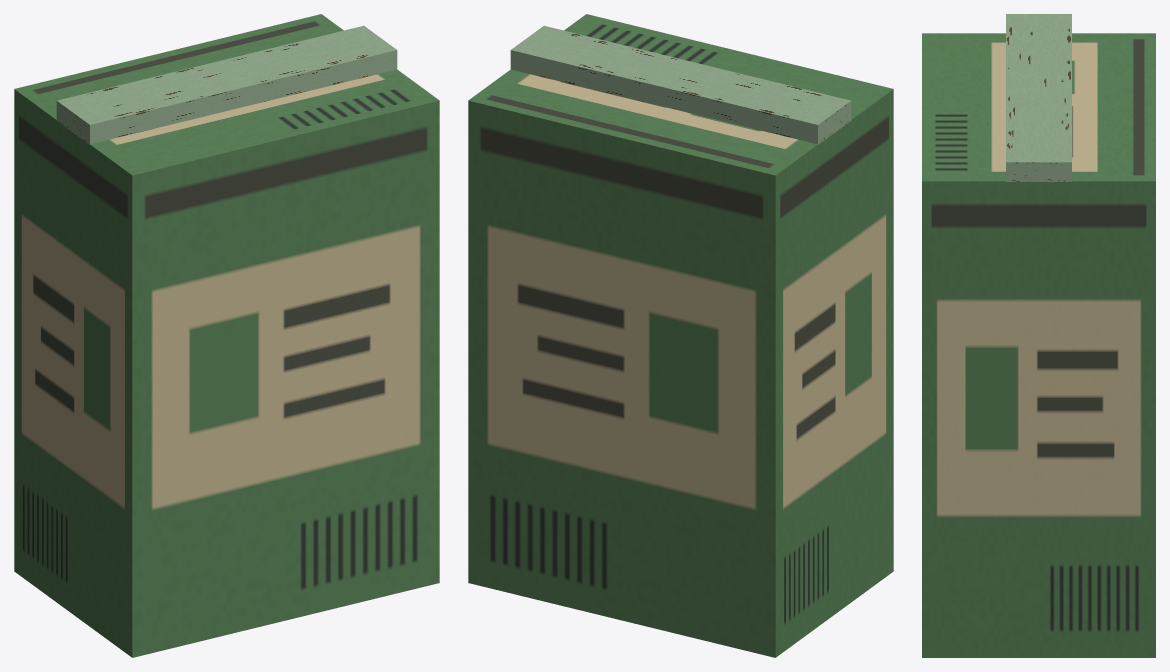
Rendered from GroceryBoxTan.fbx.
3 renders of one model, left to right at view 1: azimuth 30°, elevation 25°; view 2: azimuth 150°, elevation 25°; view 3: azimuth 270°, elevation 25°, orthographic.
Parts seen in each view (by area): view 1: GroceryBoxTan; view 2: GroceryBoxTan; view 3: GroceryBoxTan.
Part boxes in pixels (x1=…): GroceryBoxTan: x1=14, y1=14, x2=439, y2=657; GroceryBoxTan: x1=468, y1=14, x2=893, y2=657; GroceryBoxTan: x1=922, y1=14, x2=1155, y2=657.
Bounding box in the file's own units: 24 × 37.45 × 16.
